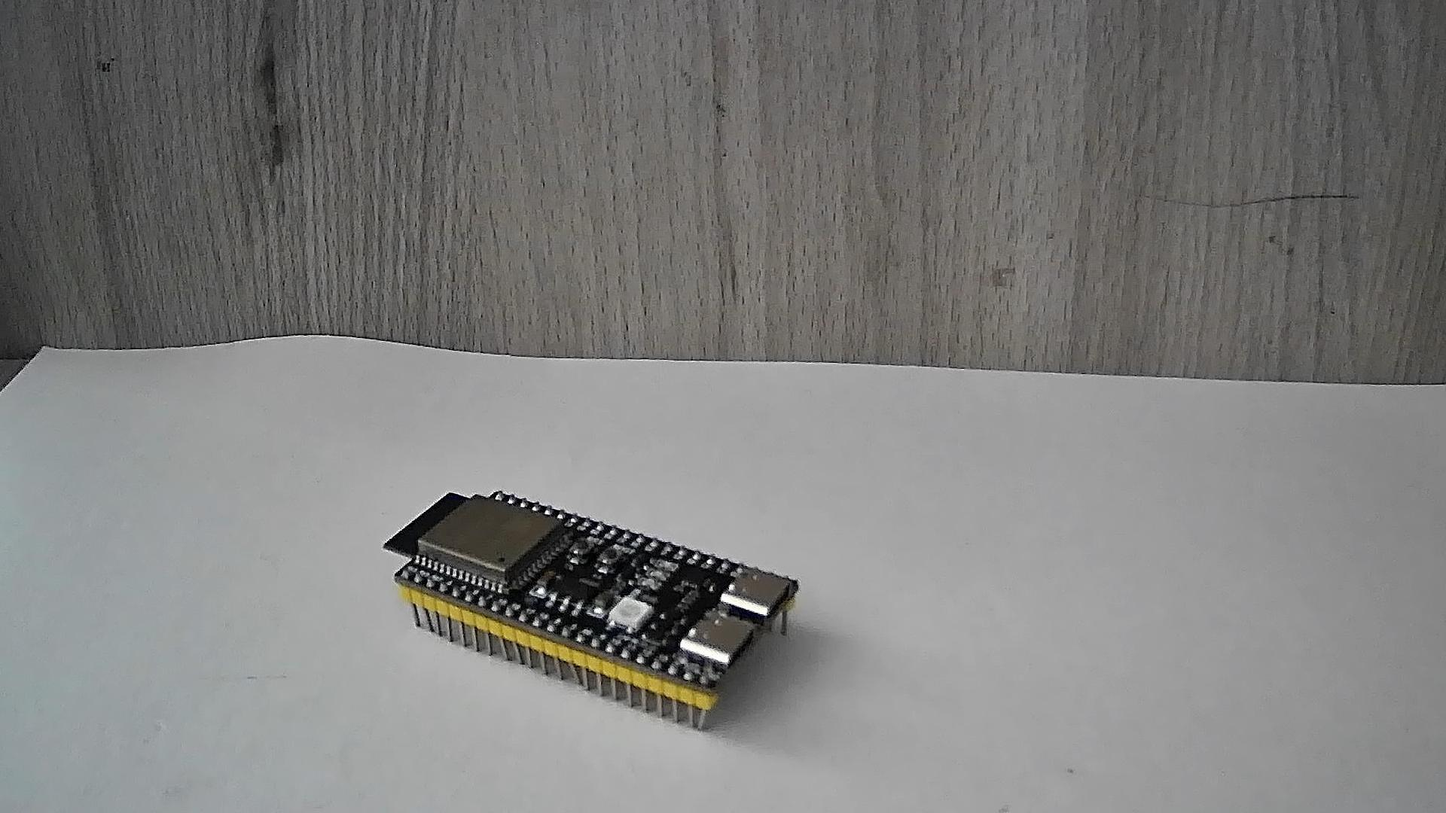ESP32: (357, 432, 869, 761)
